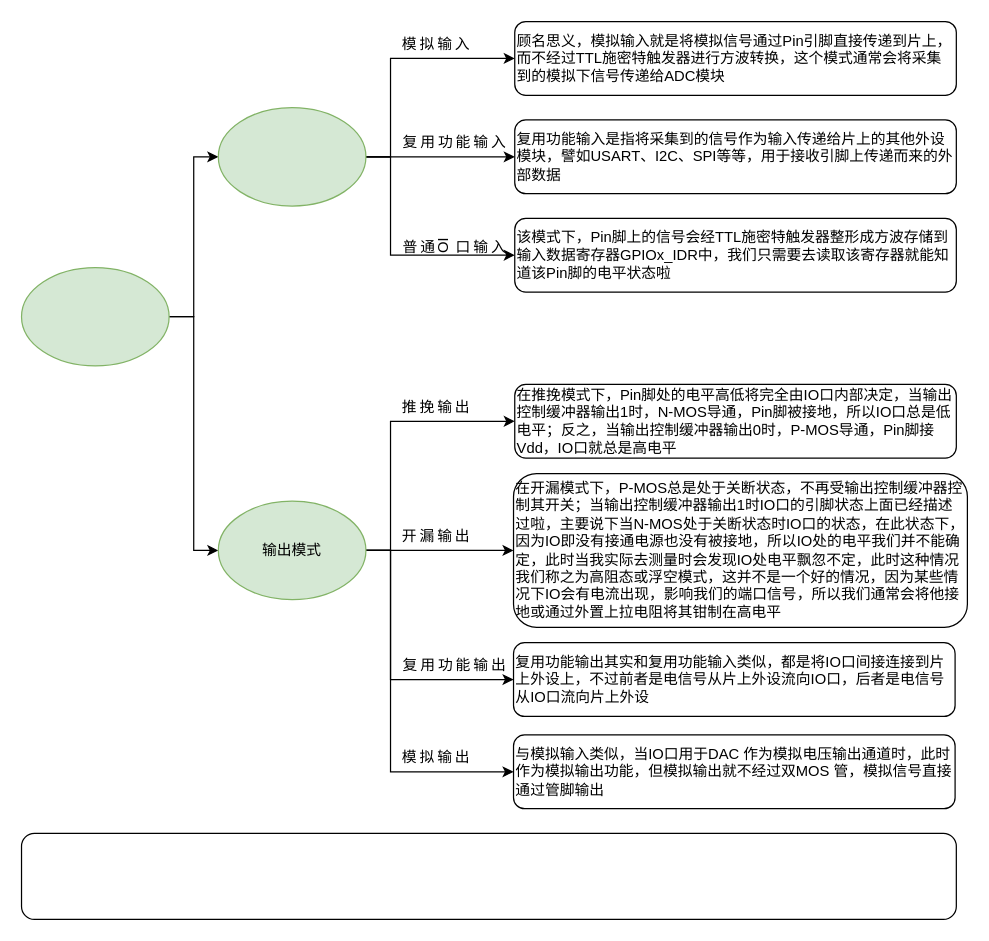
This 989x941 diagram has some shape labels left out. The box of each missing label's shape, as (x1, y1, x2, y2) in pixels:
GPIO的工作模式: (20, 266, 169, 366)
注： 1. 以上模式可以同时开启多种，譬如当IO口引脚处于浮空状态时，我们可以通过输入模式读取IO口的电平信号；使用复用功能输出时，也可以 2.: (20, 832, 956, 919)
输入模式: (217, 106, 366, 206)
